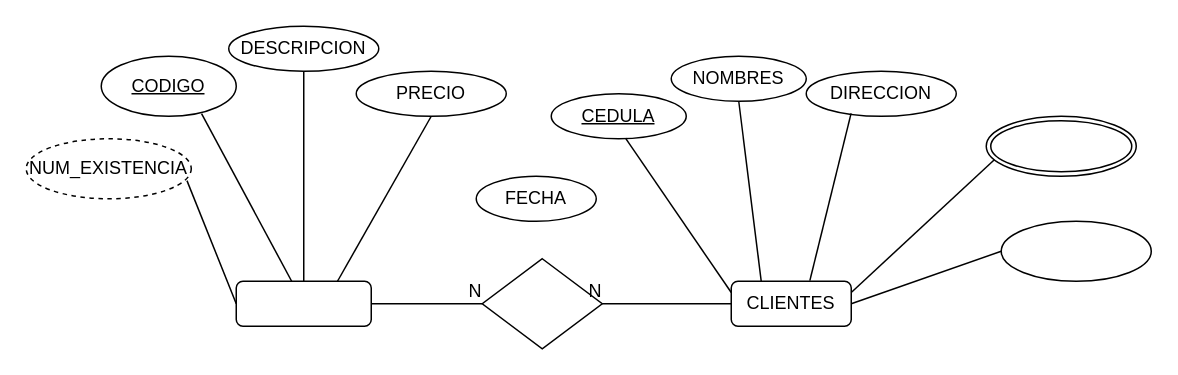
Image size: 1178x375. Some labels were removed from this diagram. Here are the shapes that lost their labels. From the top down, the box of each, then its label:
(985, 115, 1136, 176): TELEFONO
(1000, 220, 1151, 281): APELLDOS
(235, 280, 371, 326): PRODUCTOS
(481, 257, 602, 349): COMPRAR
